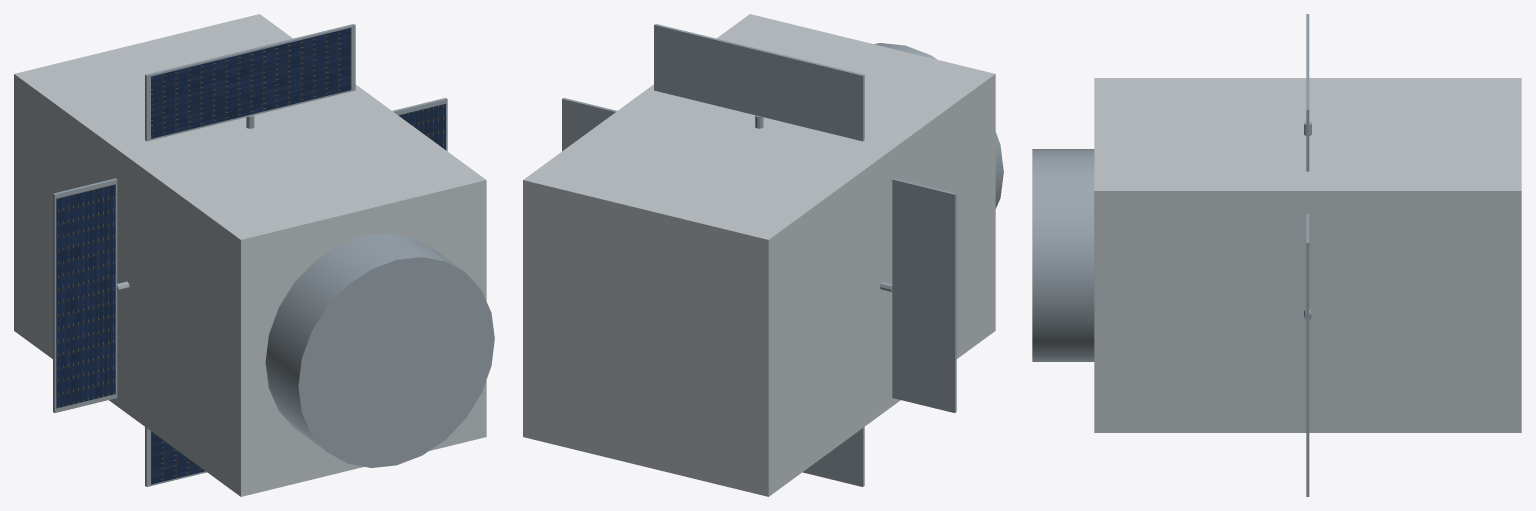
Rendered from ref-oculus-asr-44348.glb.
The picture shows the model from 3 angles, left to right: view 1: azimuth 30°, elevation 25°; view 2: azimuth 150°, elevation 25°; view 3: azimuth 270°, elevation 25°; orthographic projection. The views are drawn at different scales.
Parts seen in each view (by area): view 1: Spacecraft body, Cylindrical section, Photovoltaic laminates (×4), Array frame (×2); view 2: Spacecraft body, Array frame (×4), Cylindrical section; view 3: Spacecraft body, Cylindrical section, Array frame (×2).
Boxes of the visible parts, left/top/right/bottom form: Spacecraft body: left=14, top=14, right=486, bottom=496; Cylindrical section: left=265, top=233, right=494, bottom=467; Photovoltaic laminates (×4): left=56, top=28, right=445, bottom=484; Array frame (×2): left=53, top=24, right=355, bottom=412; Spacecraft body: left=523, top=14, right=995, bottom=496; Array frame (×4): left=562, top=24, right=956, bottom=486; Cylindrical section: left=874, top=43, right=1003, bottom=208; Spacecraft body: left=1094, top=78, right=1521, bottom=432; Cylindrical section: left=1032, top=149, right=1094, bottom=361; Array frame (×2): left=1306, top=14, right=1309, bottom=448.
Size of the model in its own units: 0.8 by 0.8 by 0.916.
3 materials, 1 textured.
